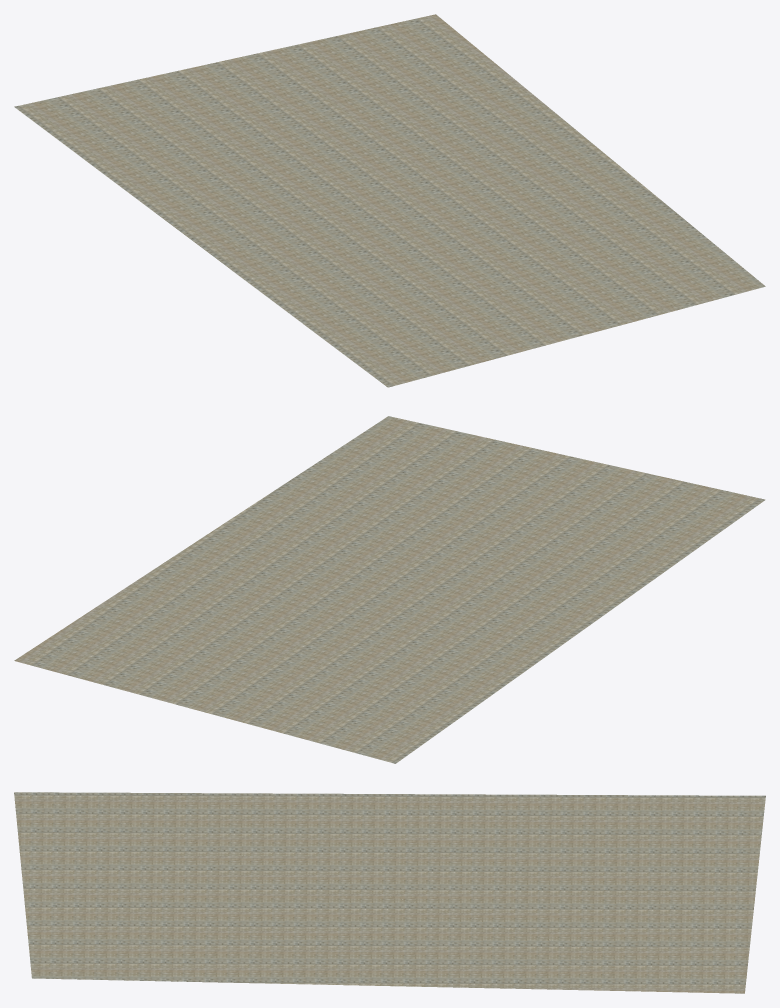
Rendered from SM_Scene_A_FloorPlane00.fbx.
3 views of the same model, one above another, from view 1: azimuth 30°, elevation 25°; view 2: azimuth 150°, elevation 25°; view 3: azimuth 270°, elevation 25° (orthographic). The views are drawn at different scales.
Parts seen in each view (by area): view 1: SM_Scene_A_FloorPlane00; view 2: SM_Scene_A_FloorPlane00; view 3: SM_Scene_A_FloorPlane00.
Part boxes in pixels (x1=…): SM_Scene_A_FloorPlane00: x1=14, y1=14, x2=765, y2=387; SM_Scene_A_FloorPlane00: x1=14, y1=416, x2=765, y2=763; SM_Scene_A_FloorPlane00: x1=14, y1=792, x2=765, y2=993.
Bounding box in the file's own units: 403102 × 0 × 636009.
